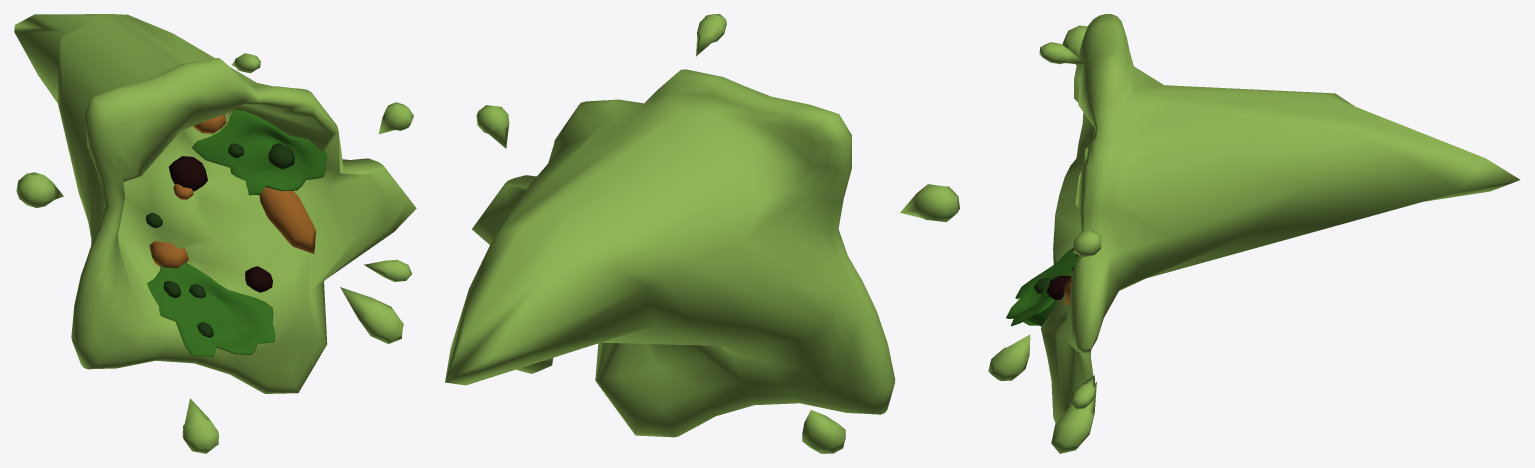
Rendered from Blevota.fbx.
The picture shows the model from 3 angles, left to right: view 1: azimuth 30°, elevation 25°; view 2: azimuth 150°, elevation 25°; view 3: azimuth 270°, elevation 25°; orthographic projection. The views are drawn at different scales.
Visible parts, largest first — view 1: Blevota; view 2: Blevota; view 3: Blevota.
Part boxes in pixels (left/top/right/bottom): Blevota: left=14, top=14, right=416, bottom=453; Blevota: left=445, top=14, right=959, bottom=453; Blevota: left=988, top=14, right=1520, bottom=453.
Size of the model in its own units: 7217 by 6266 by 8152.
